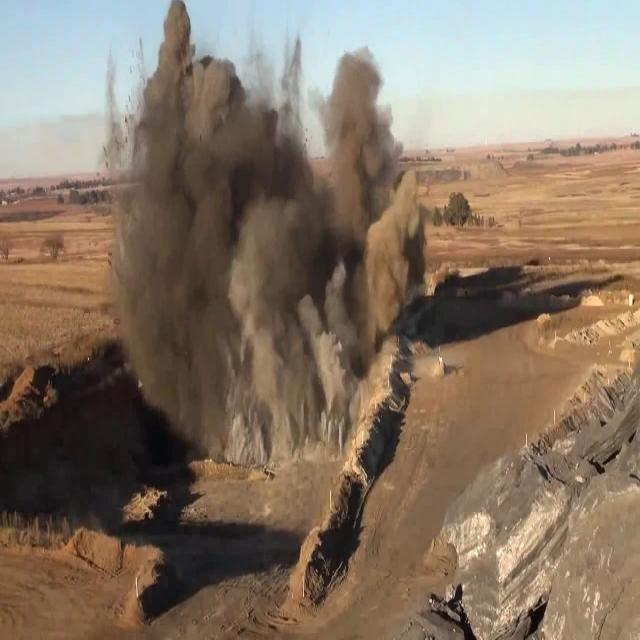explosion: (78, 0, 461, 565)
